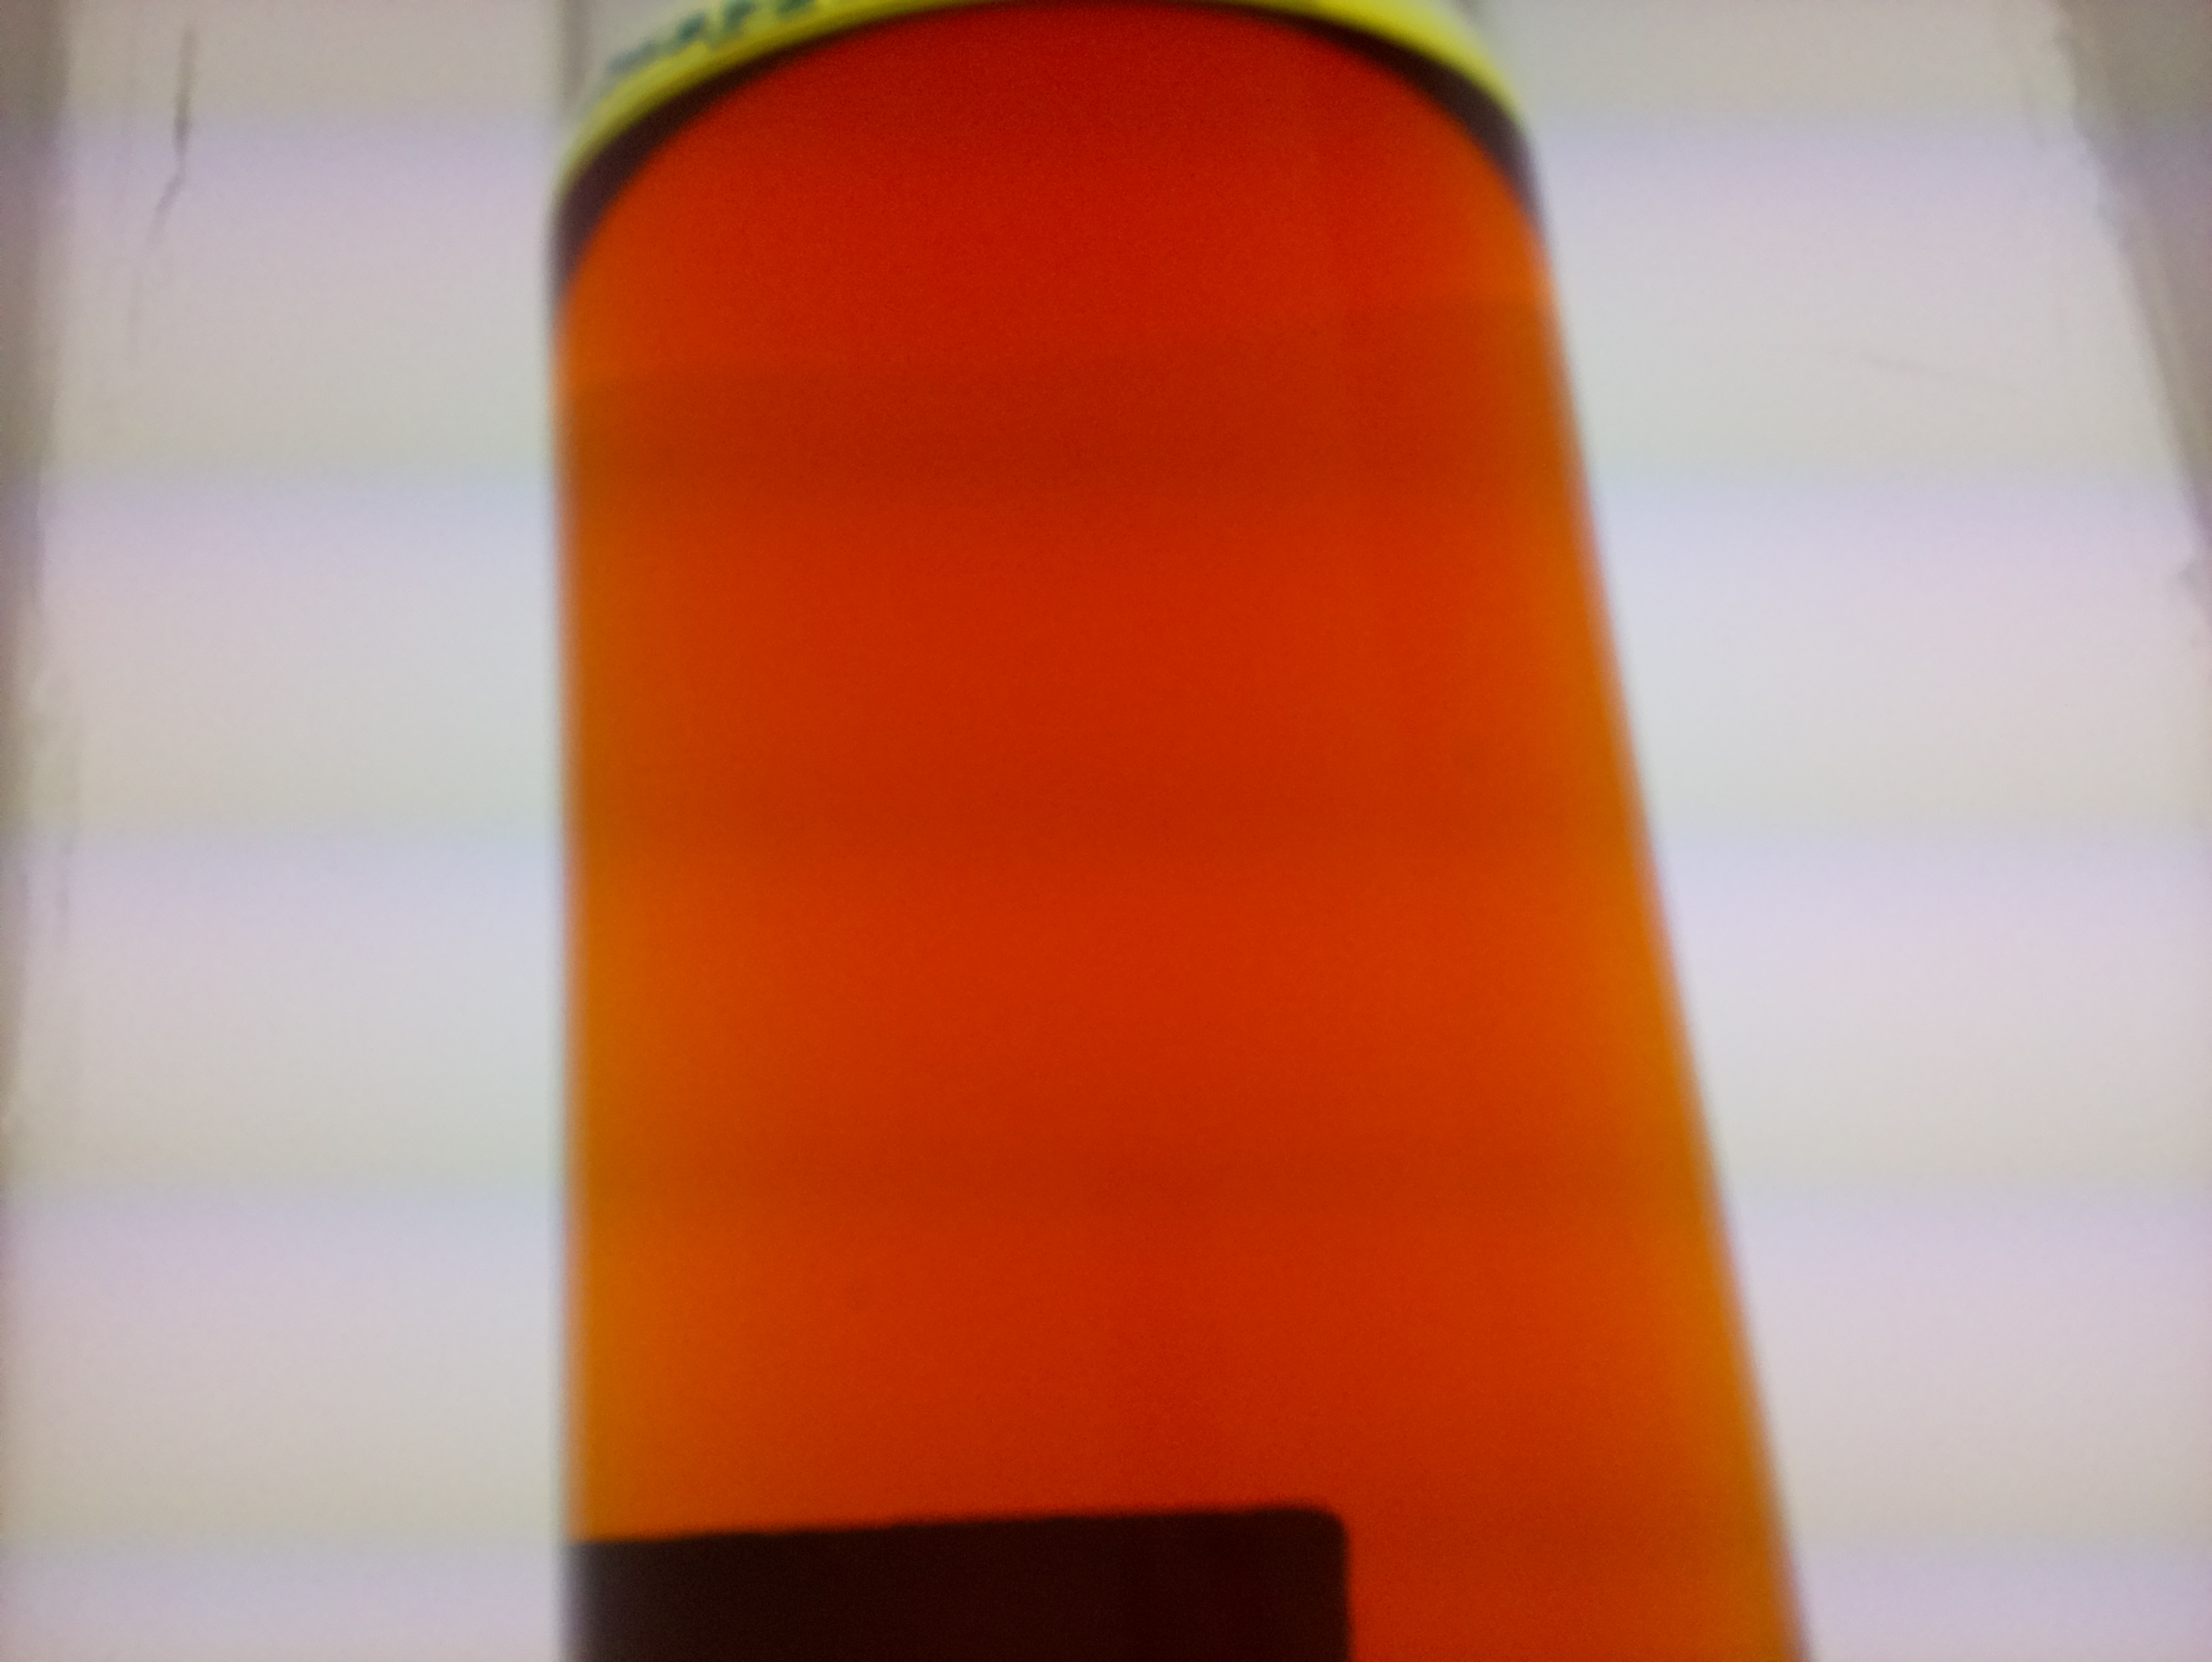colored_area: (560, 9, 1795, 1653)
